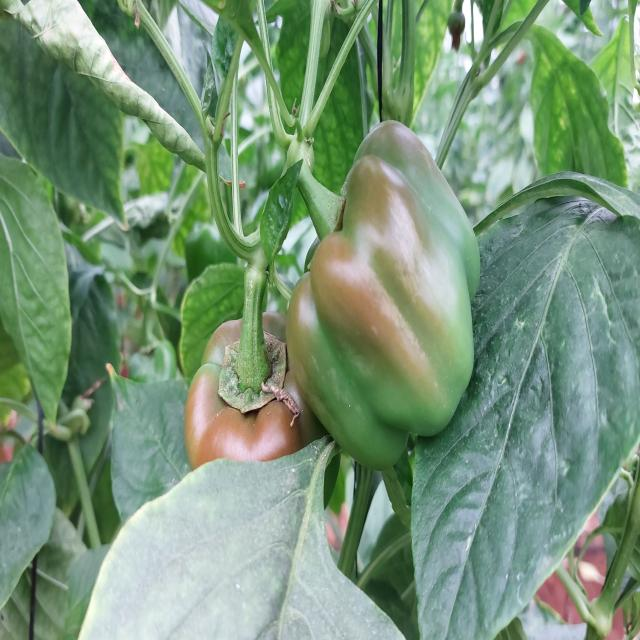BrownishRed--Can-be-Harvested: (268, 170, 492, 474), (183, 305, 313, 563)
